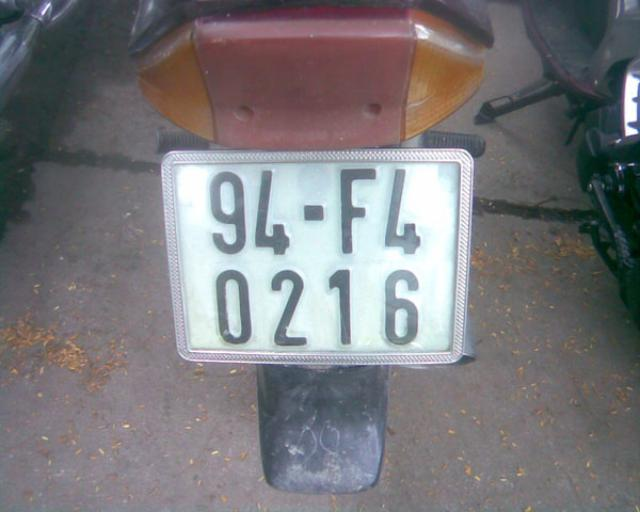plate: (166, 153, 454, 363)
